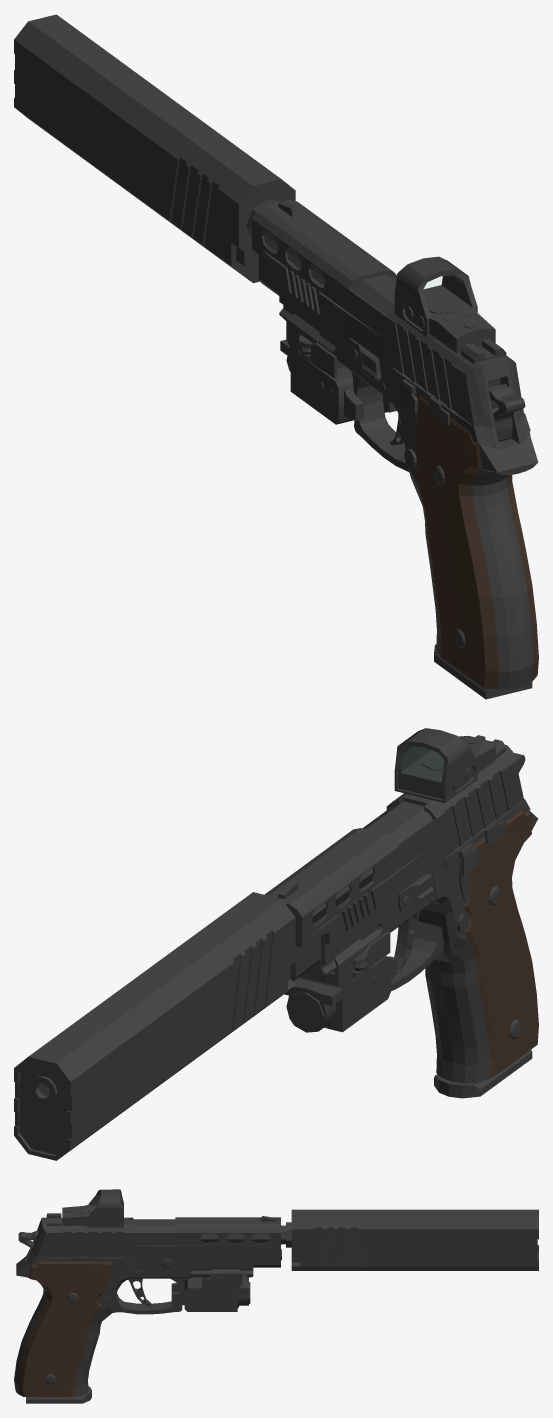
Rendered from Pistol.fbx.
The picture shows the model from 3 angles, top to bottom: view 1: azimuth 30°, elevation 25°; view 2: azimuth 150°, elevation 25°; view 3: azimuth 270°, elevation 25°; orthographic projection. The views are drawn at different scales.
Parts seen in each view (by area): view 1: silencer02, slide, Body, Grip, holoscope_02, flashlight02, holoscope_01, Barrel, Hammer, Magazine, flashlight01, hinge01; view 2: silencer02, slide, Body, Grip, flashlight02, holoscope_02, holoscope_01, Barrel, Magazine, flashlight01, hinge01, Trigger (+1 smaller); view 3: silencer02, Grip, slide, Body, flashlight02, Barrel, holoscope_01, flashlight01, holoscope_02, Magazine.
Part boxes in pixels (<box>): silencer02: <box>14,14,295,283</box>; slide: <box>252,200,523,427</box>; Body: <box>279,286,538,689</box>; Grip: <box>413,395,538,689</box>; holoscope_02: <box>405,272,495,351</box>; flashlight02: <box>280,339,396,424</box>; holoscope_01: <box>394,256,495,353</box>; Barrel: <box>263,230,396,315</box>; Hammer: <box>488,384,525,441</box>; Magazine: <box>434,644,532,699</box>; flashlight01: <box>286,314,344,371</box>; hinge01: <box>298,335,336,378</box>; silencer02: <box>14,892,295,1160</box>; slide: <box>264,740,523,981</box>; Body: <box>301,799,538,1083</box>; Grip: <box>463,809,538,1077</box>; flashlight02: <box>284,956,397,1032</box>; holoscope_02: <box>398,735,495,799</box>; holoscope_01: <box>394,728,495,803</box>; Barrel: <box>312,801,432,923</box>; Magazine: <box>434,1050,532,1098</box>; flashlight01: <box>298,939,373,989</box>; hinge01: <box>353,931,390,977</box>; Trigger: <box>394,911,419,969</box>; silencer02: <box>282,1209,538,1270</box>; Grip: <box>18,1261,113,1397</box>; slide: <box>32,1217,280,1267</box>; Body: <box>14,1248,253,1396</box>; flashlight02: <box>171,1275,250,1311</box>; Barrel: <box>129,1219,281,1244</box>; holoscope_01: <box>62,1189,123,1227</box>; flashlight01: <box>202,1269,242,1288</box>; holoscope_02: <box>62,1191,122,1225</box>; Magazine: <box>26,1386,91,1403</box>.
Bounding box in the file's own units: 2.74 × 15.48 × 35.97.
